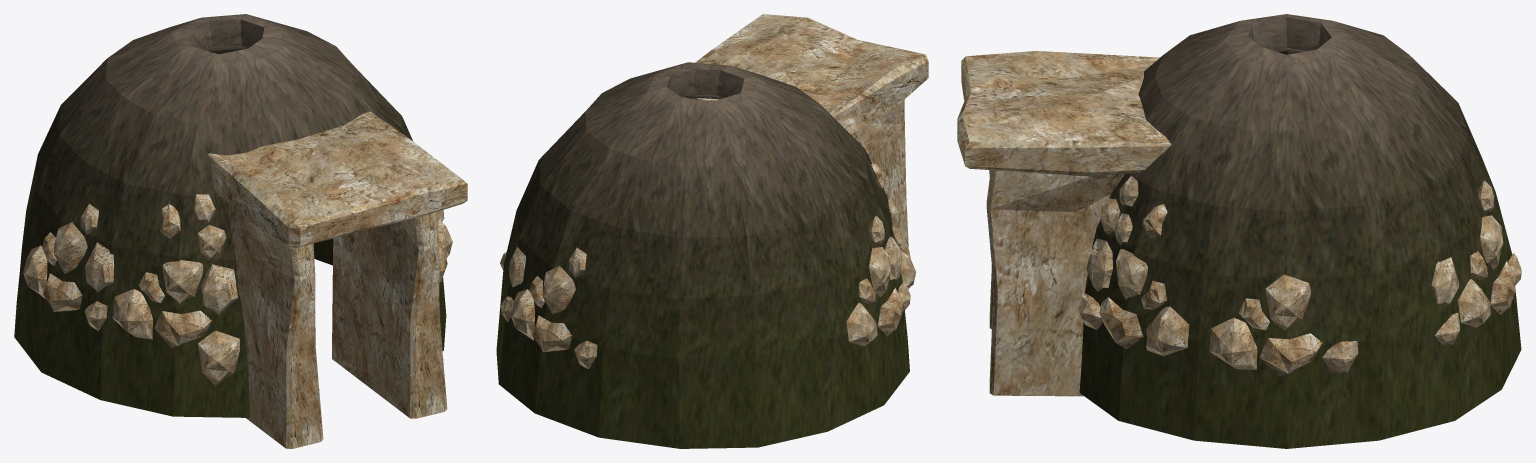
The model's file is thm_dant_small_mudhut_l0.fbx.
3 views of the same model, side by side, from view 1: azimuth 30°, elevation 25°; view 2: azimuth 150°, elevation 25°; view 3: azimuth 270°, elevation 25° (orthographic). The views are drawn at different scales.
Parts seen in each view (by area): view 1: mesh_node; view 2: mesh_node; view 3: mesh_node.
Part boxes in pixels (x1=…): mesh_node: x1=14, y1=14, x2=467, y2=448; mesh_node: x1=496, y1=14, x2=928, y2=448; mesh_node: x1=957, y1=14, x2=1521, y2=448.
Bounding box in the file's own units: 9.35 × 6.81 × 10.98.
